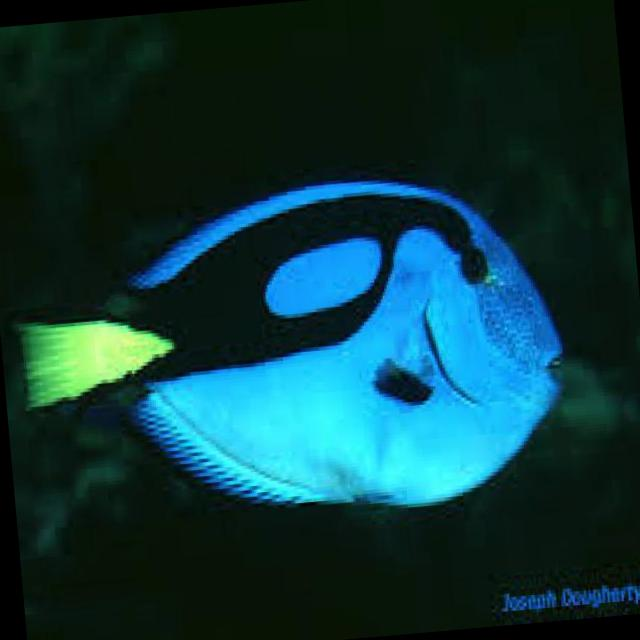TangFish: (8, 154, 574, 544)
